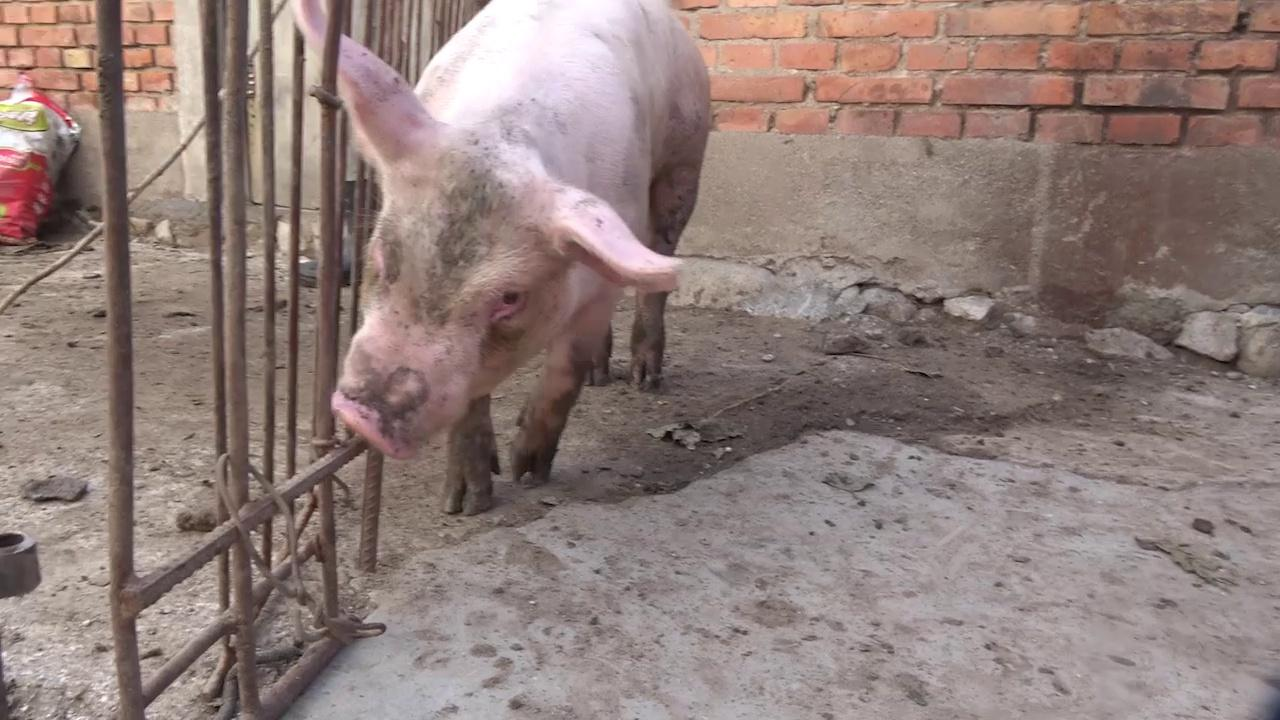Face: (323, 32, 693, 466)
